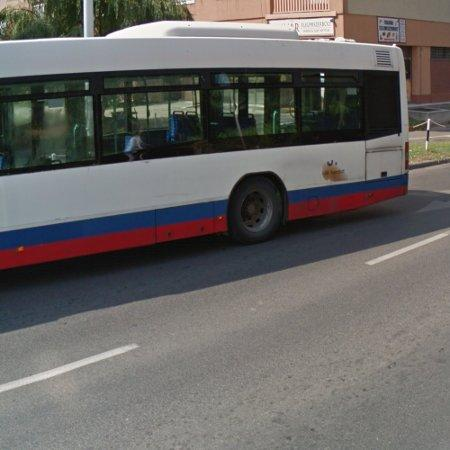buses: (0, 21, 409, 269)
